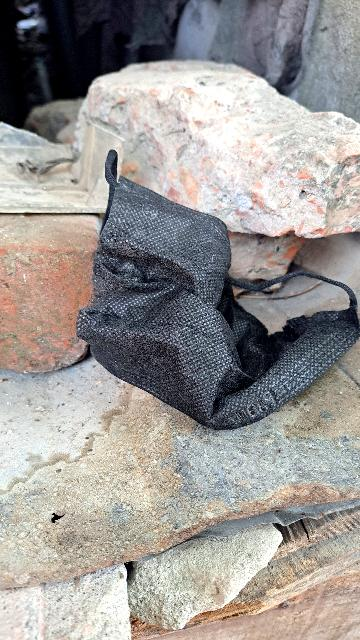mask: (61, 159, 261, 461)
